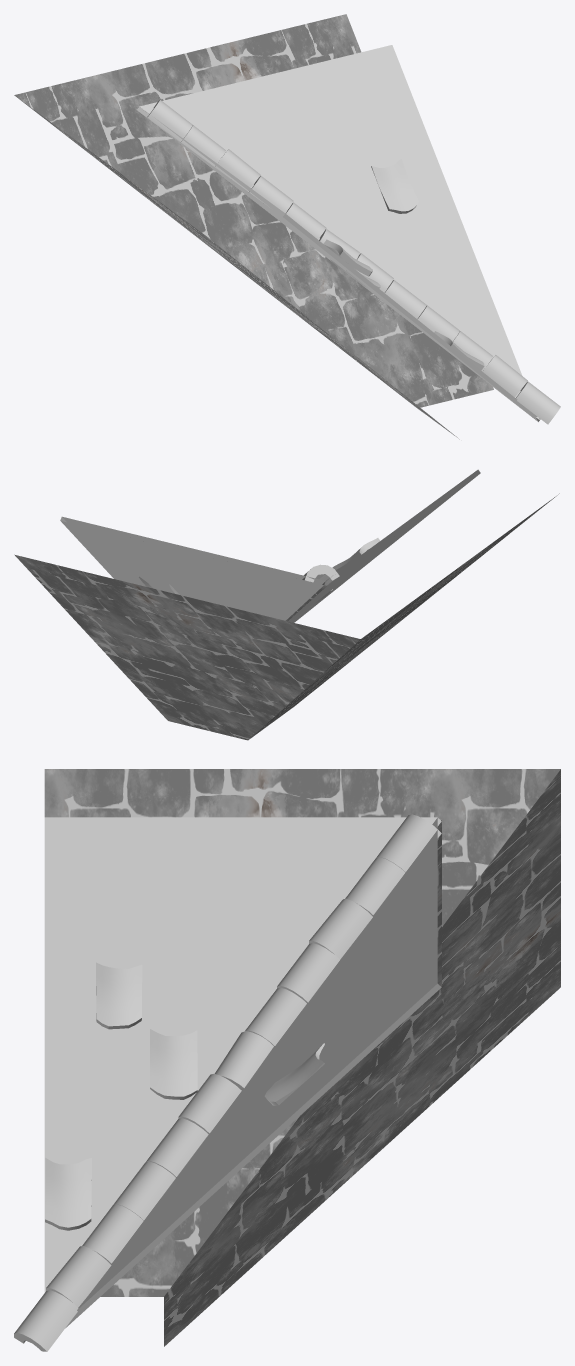
The model's file is Roof_Mid_Corner_Inner.fbx.
3 views of the same model, one above another, from view 1: azimuth 30°, elevation 25°; view 2: azimuth 150°, elevation 25°; view 3: azimuth 270°, elevation 25° (orthographic). The views are drawn at different scales.
Visible parts, largest first — view 1: Corner_Inner; view 2: Corner_Inner; view 3: Corner_Inner.
Boxes of the visible parts, <box> form: Corner_Inner: <box>14,14,560,439</box>; Corner_Inner: <box>14,469,559,740</box>; Corner_Inner: <box>14,769,560,1351</box>.
Size of the model in its own units: 6.89 by 5.19 by 6.89.
